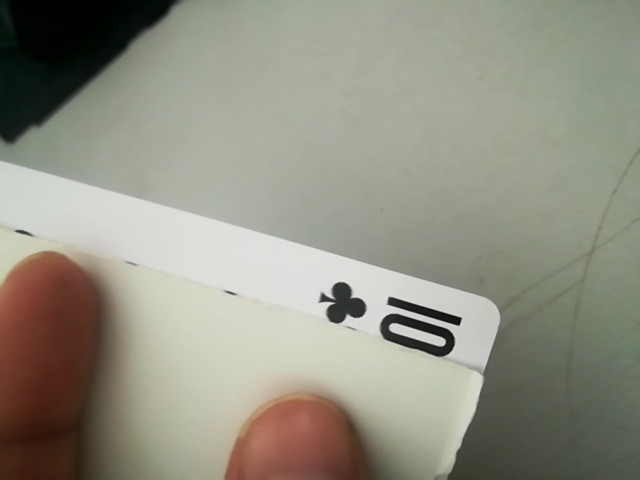mh 10: (295, 268, 502, 379)
